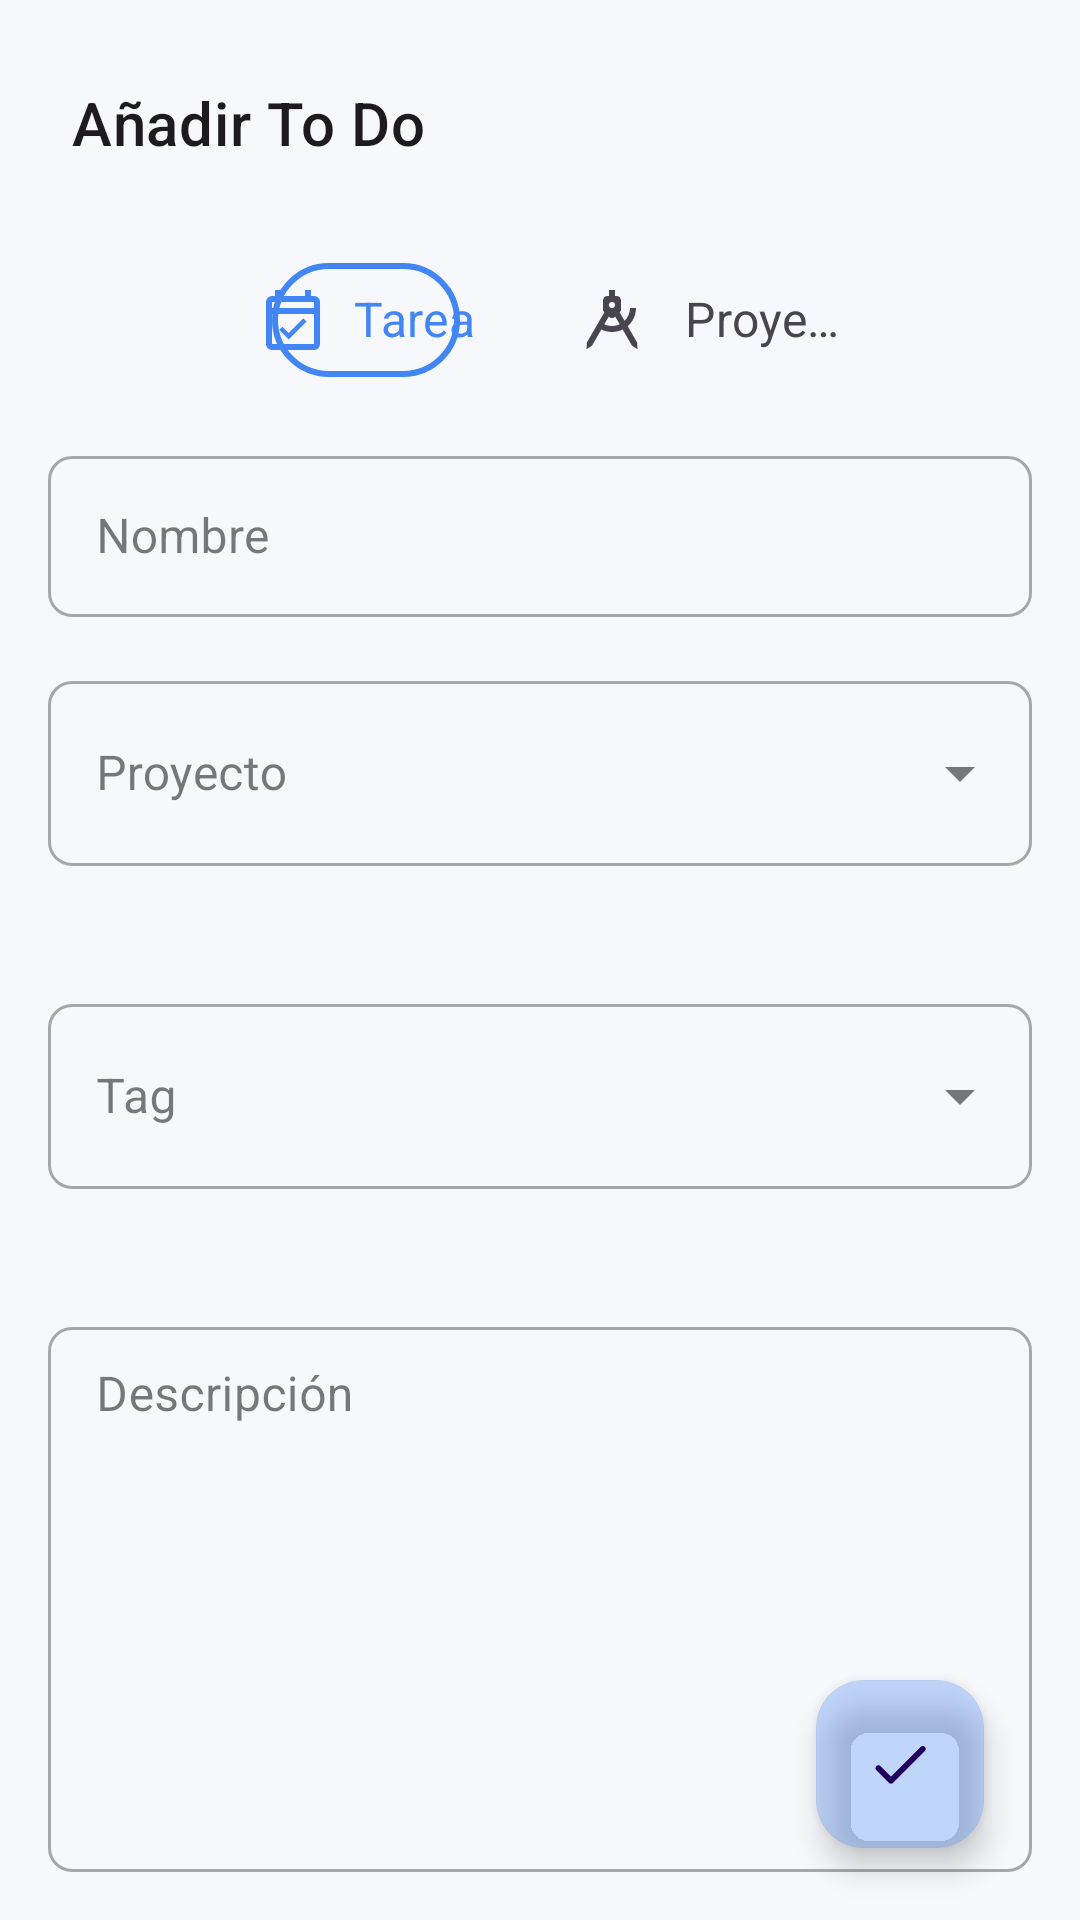

Screen size 1080*1920. Icon name, then its center in pixels as (x=x, y=y):
check: (x=900, y=1764)
